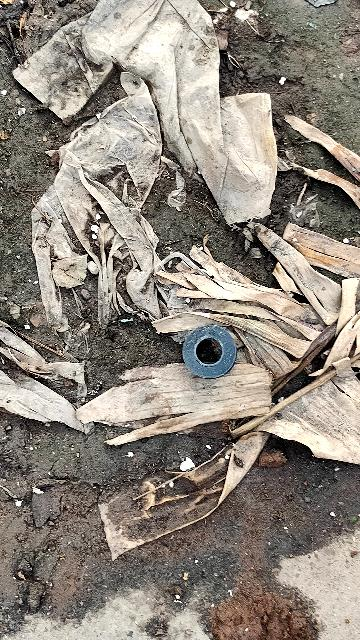hardplastic: (174, 311, 238, 390)
